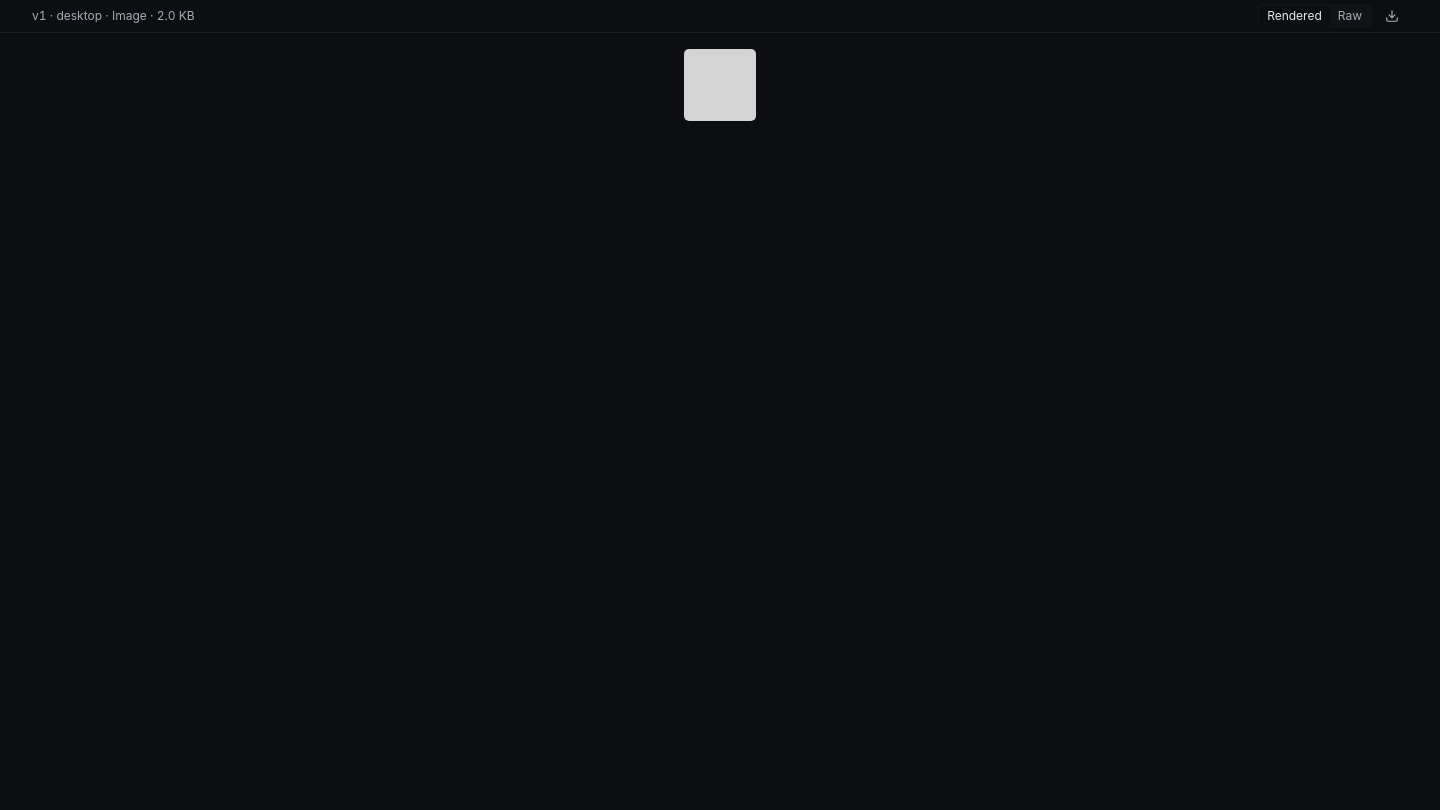
Test: an image upload's memory › opens the lightbox when its picture is clicked
Click the button named "Preview shot.png" at (720, 85), box [32, 49, 1408, 121]
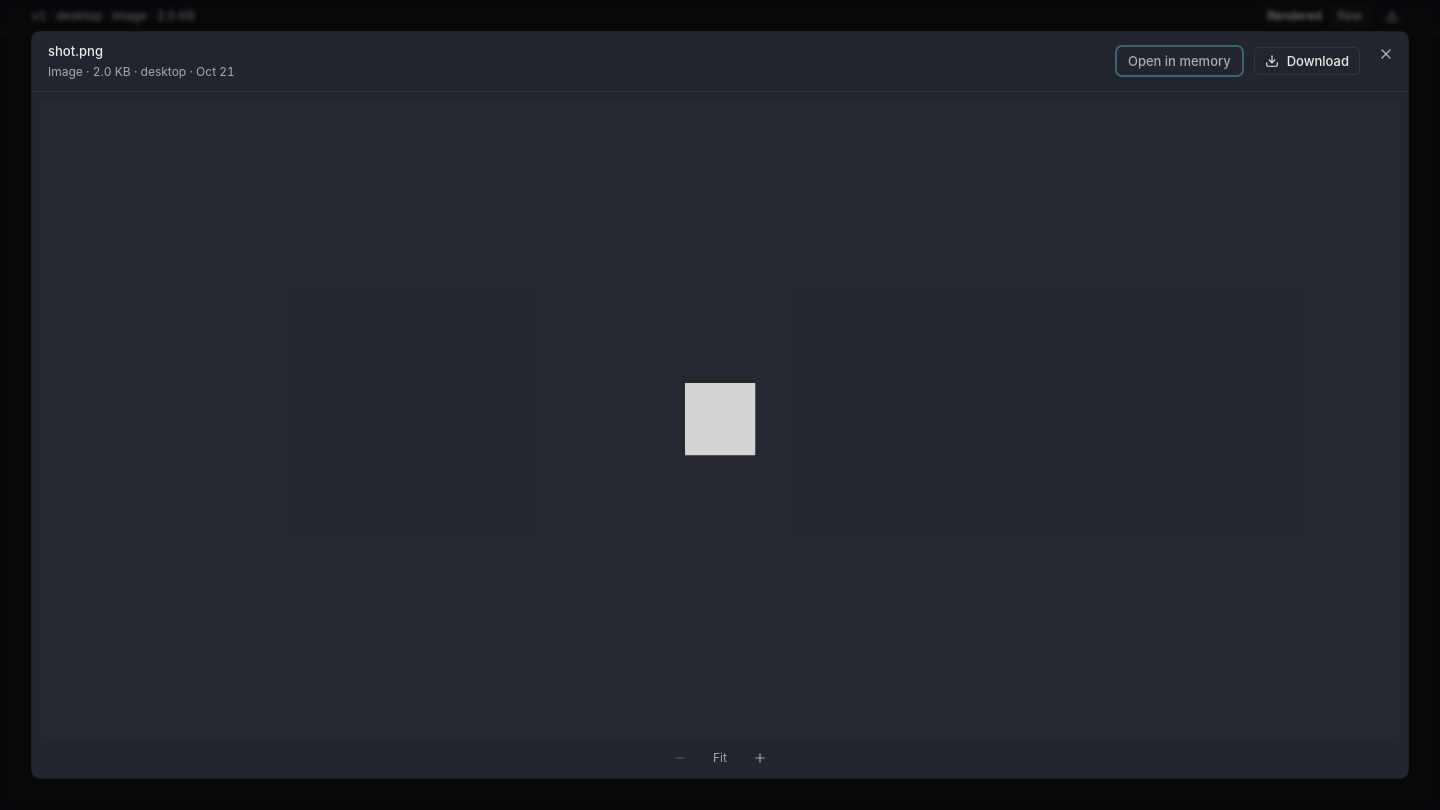
Expected: the dialog is shown
